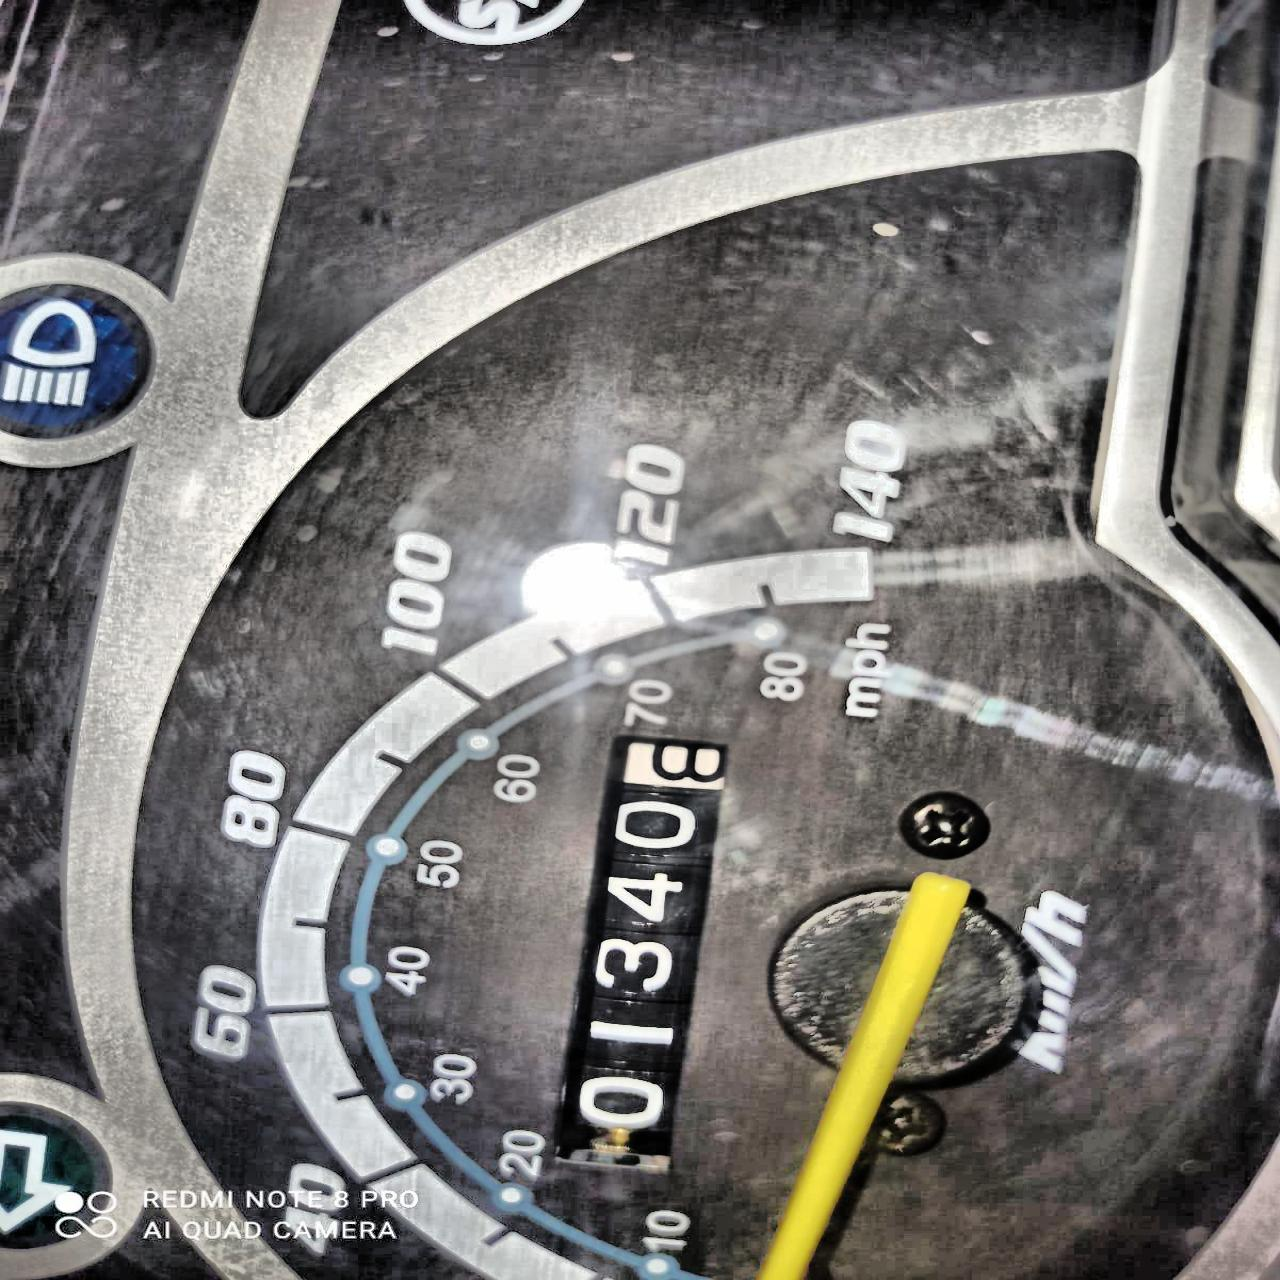0: (605, 796, 712, 853), (571, 1071, 669, 1130)
1: (577, 1008, 694, 1057)
3: (579, 934, 692, 996)
4: (595, 870, 696, 921)
8: (635, 735, 728, 778)
odometer: (538, 723, 736, 1183)
